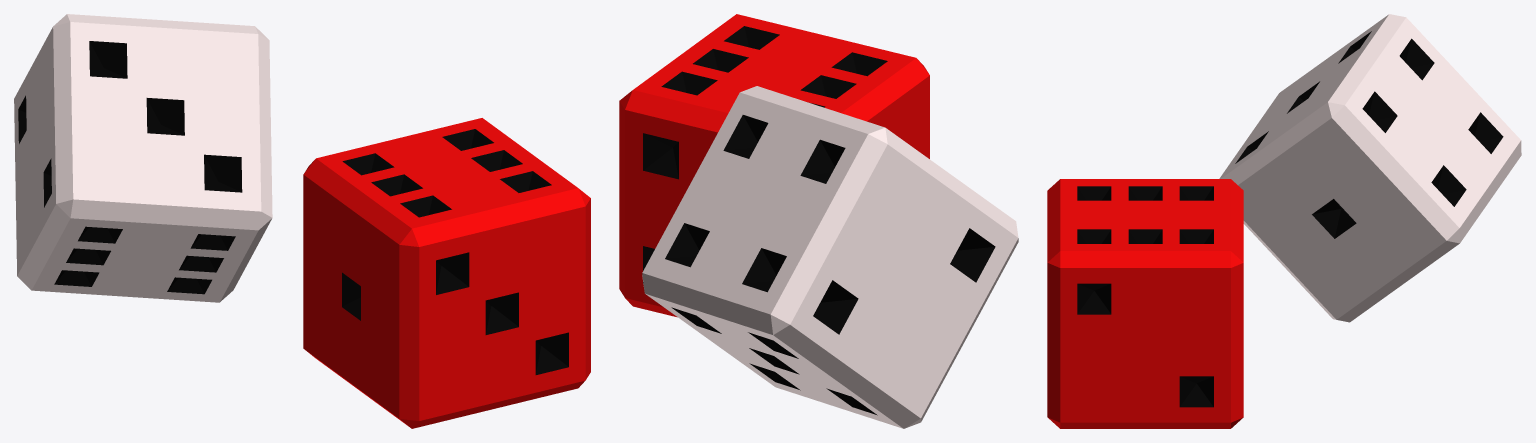
The model's file is Dado.gltf.
The picture shows the model from 3 angles, left to right: view 1: azimuth 30°, elevation 25°; view 2: azimuth 150°, elevation 25°; view 3: azimuth 270°, elevation 25°; orthographic projection. The views are drawn at different scales.
Visible parts, largest first — view 1: Dado.001, Dado; view 2: Dado, Dado.001; view 3: Dado, Dado.001.
Boxes of the visible parts, <box> form: Dado.001: <box>303,118,590,428</box>; Dado: <box>14,14,272,302</box>; Dado: <box>642,86,1018,428</box>; Dado.001: <box>619,14,929,317</box>; Dado: <box>1219,14,1521,322</box>; Dado.001: <box>1047,179,1243,428</box>.
Size of what is drawn, in the model's own units: 2.06 by 1.51 by 2.36.
